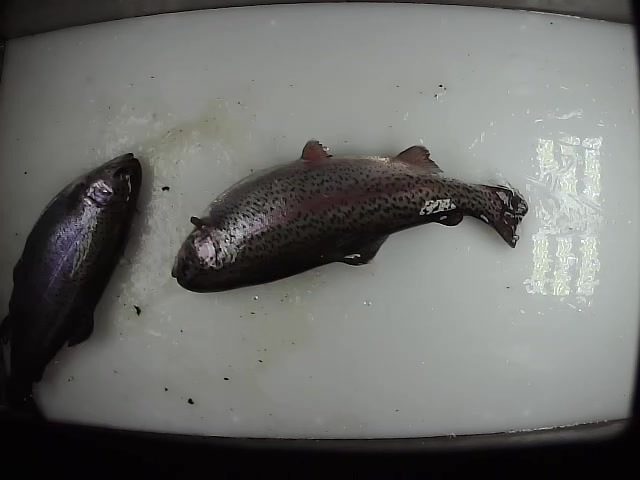fish: (170, 139, 528, 294), (4, 152, 144, 408)
